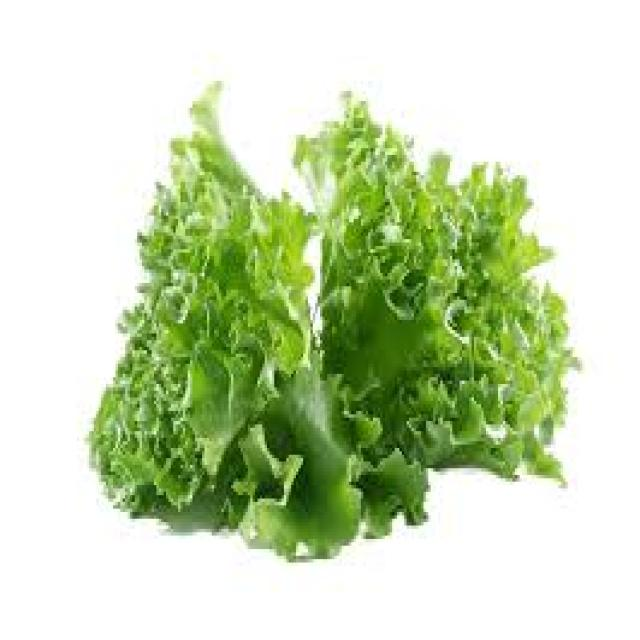Lettuce: (290, 62, 599, 547), (86, 101, 352, 564)
